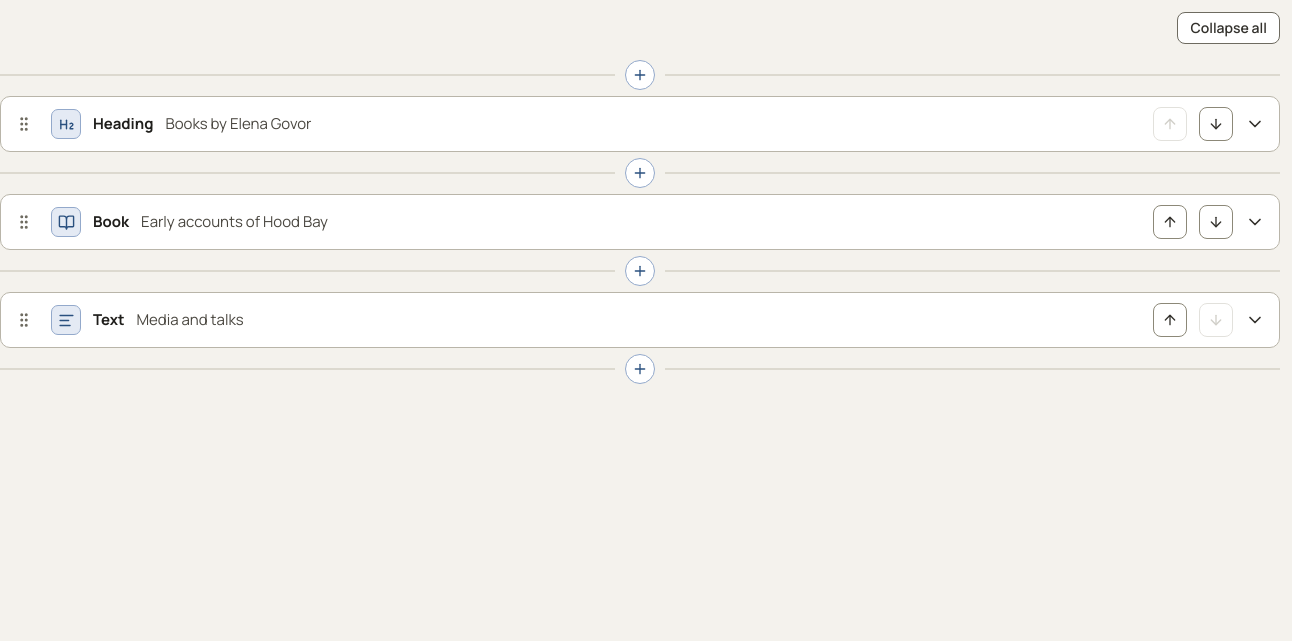
Test: BlocksEditor: insert between › names the top insert point differently and closes the menu with ×
Click the 1st button named "Insert a section here" at {"x": 640, "y": 75}, box x1=625 y1=60 x2=655 y2=90
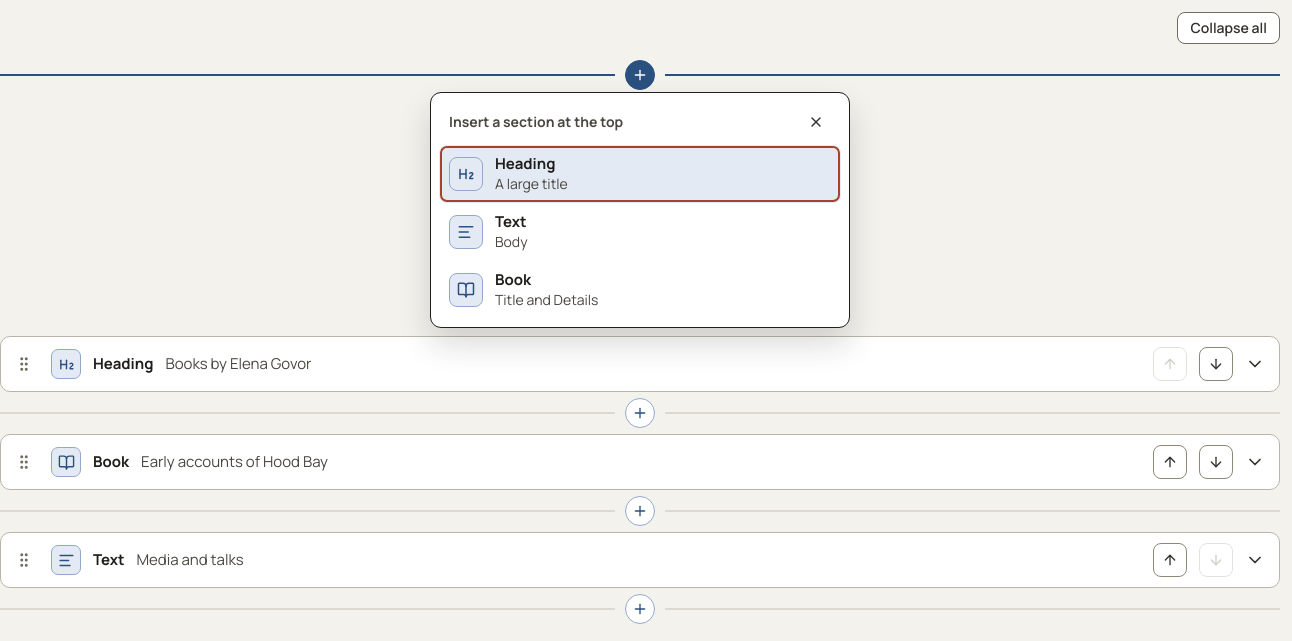
Check: the menu named "Insert a section at the top" is shown, box x1=439 y1=145 x2=841 y2=319
Click the button named "Close" at {"x": 816, "y": 122}, box x1=801 y1=107 x2=831 y2=137
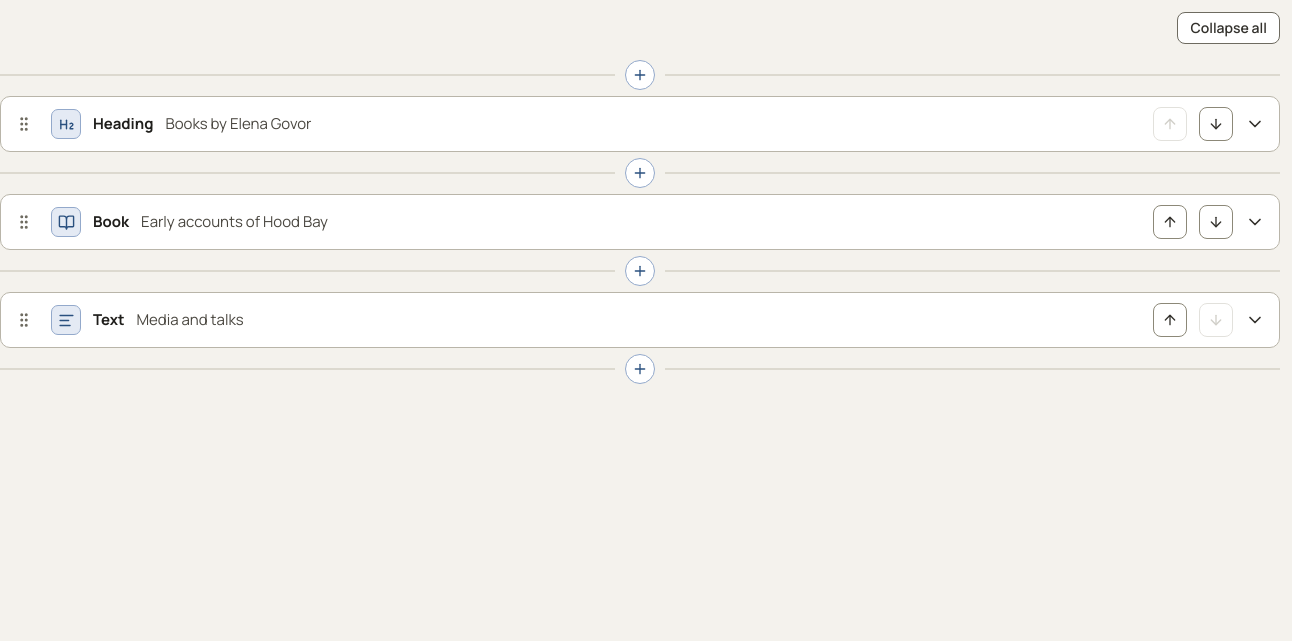
Check: the menu is gone
